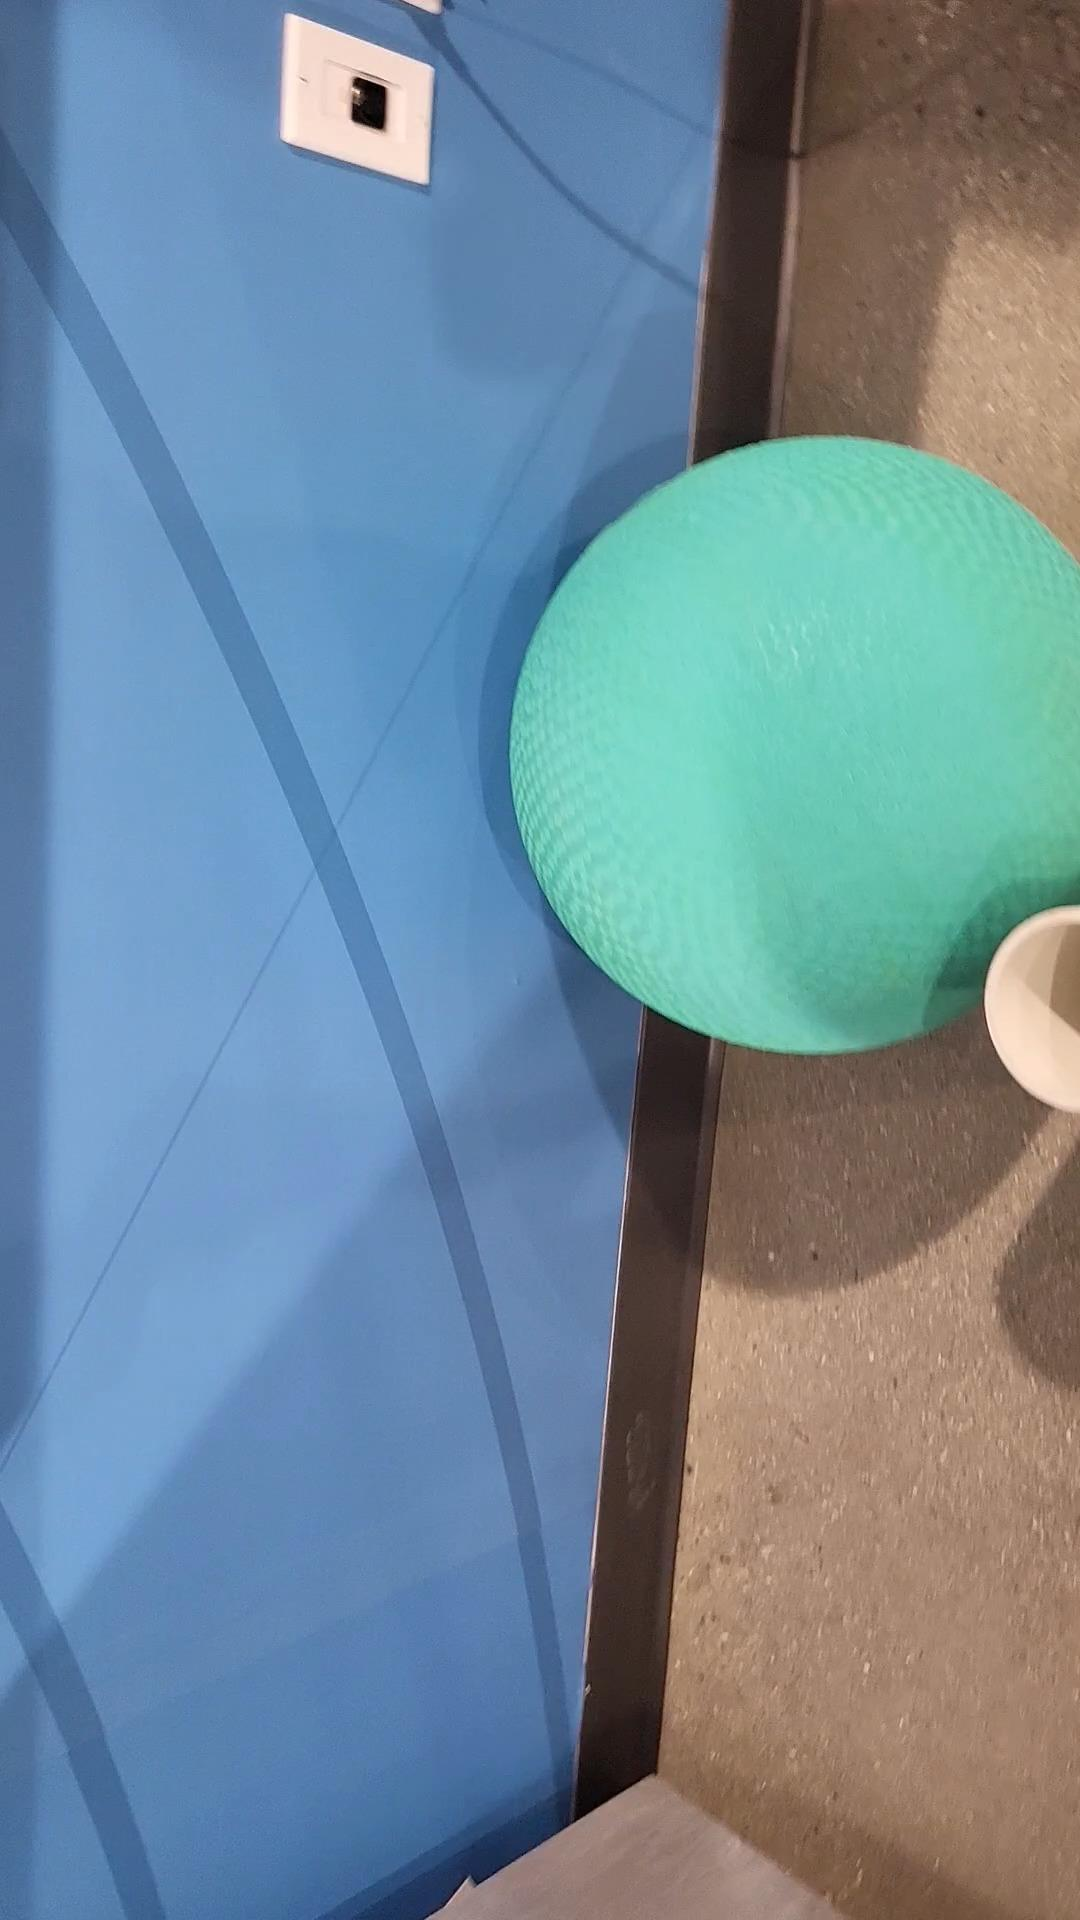algae: (510, 443, 1080, 1055)
coral: (982, 905, 1079, 1105)
